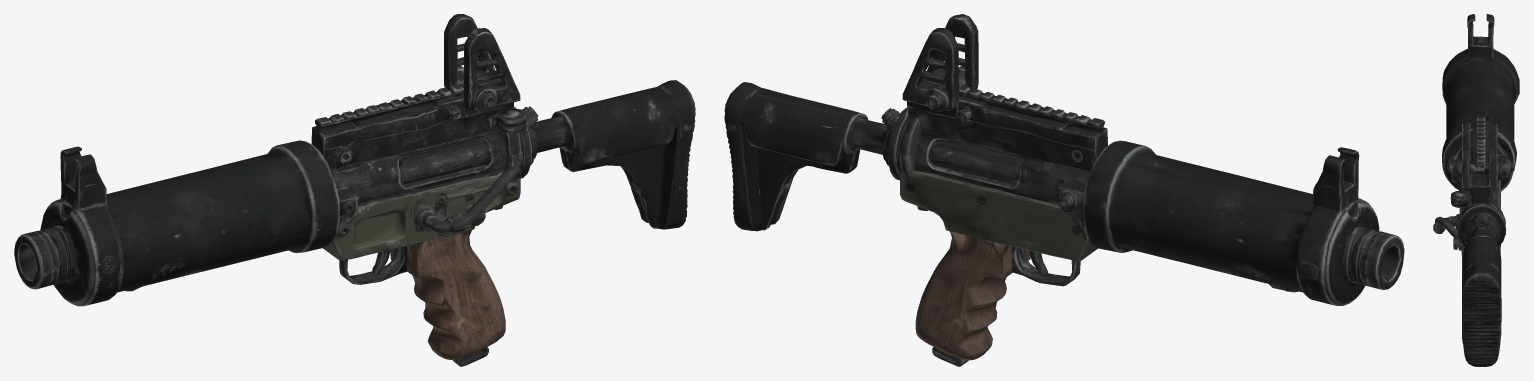
File: gun_thumper.glb
3 views of the same model, side by side, from view 1: azimuth 30°, elevation 25°; view 2: azimuth 150°, elevation 25°; view 3: azimuth 270°, elevation 25° (orthographic). The views are drawn at different scales.
Size of the model in its own units: 1.9 by 0.938 by 0.3129.
1 material, 1 textured.
